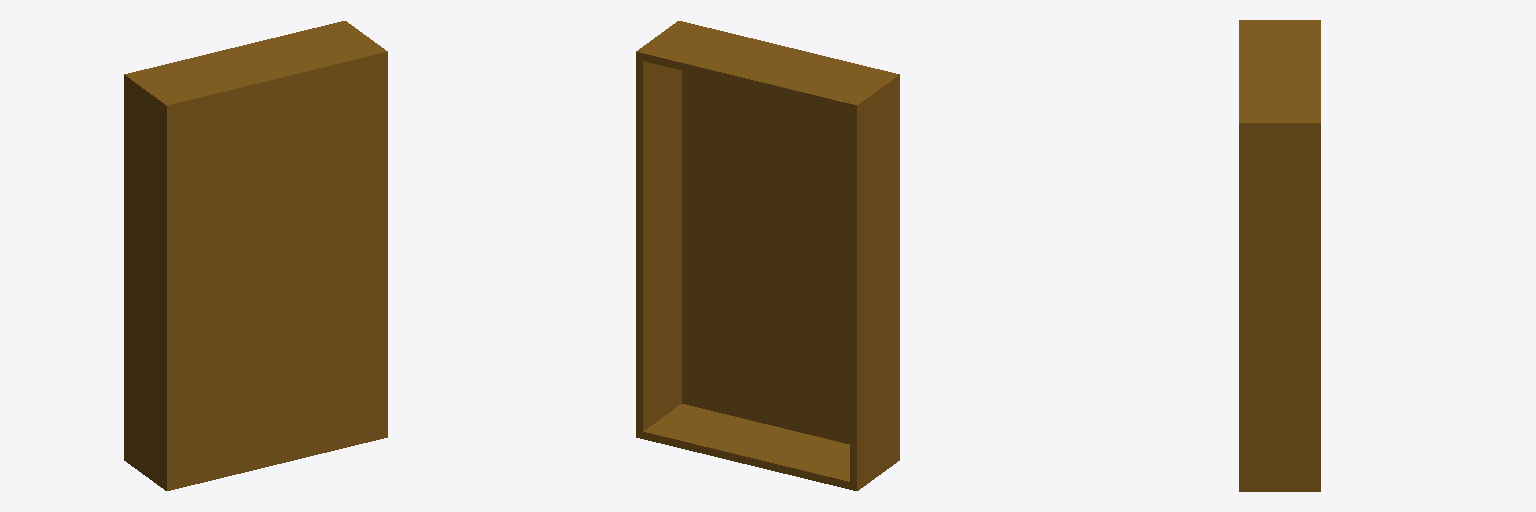
URDF robot description (bin_20_30_50):
<?xml version="1.0" ?>
<robot name="bin_20_30_50">
 <link name="baseLink">
   <contact>
     <lateral_friction value="0.4"/>
   </contact>
   <inertial>
     <origin rpy="0 0 0" xyz="0 0 0"/>
      <mass value="0"/>
      <inertia ixx="1" ixy="0.000000" ixz="0.000000" iyy="1" iyz="0.000000" izz="1"/>
   </inertial>
   <visual>
     <origin rpy="0 0 0" xyz="0 0 0"/>
     <geometry>
       <mesh filename="bin_10_30_50.obj" scale="1 1 1"/>
     </geometry>
      <material name="brown">
       <color rgba="0.564 0.407 0.152 1"/>
     </material>
   </visual>
   <collision>
     <origin rpy="0 0 0" xyz="0 0 0"/>
     <geometry>
       <mesh filename="bin_10_30_50_vhacd.obj" scale="1 1 1"/>
     </geometry>
   </collision>
 </link>
</robot>

--- Render facts (derived) ---
Views: 3 orthographic renders of the robot side by side, from view 1: azimuth 30°, elevation 25°; view 2: azimuth 150°, elevation 25°; view 3: azimuth 270°, elevation 25°.
Robot: bin_20_30_50 — 1 links, 0 joints (none); root link baseLink; default pose: all joints at 0.
Links seen in each view (by area): view 1: baseLink; view 2: baseLink; view 3: baseLink.
Link boxes in pixels (x1,y1,x2,y2): baseLink: [124, 21, 387, 490]; baseLink: [636, 21, 899, 490]; baseLink: [1239, 20, 1320, 491].
Bounding box of the posed robot: 0.3 × 0.1 × 0.5 m (x, y, z).
Meshes: 1 distinct files referenced, 1 mesh visuals loaded (1 OBJ).